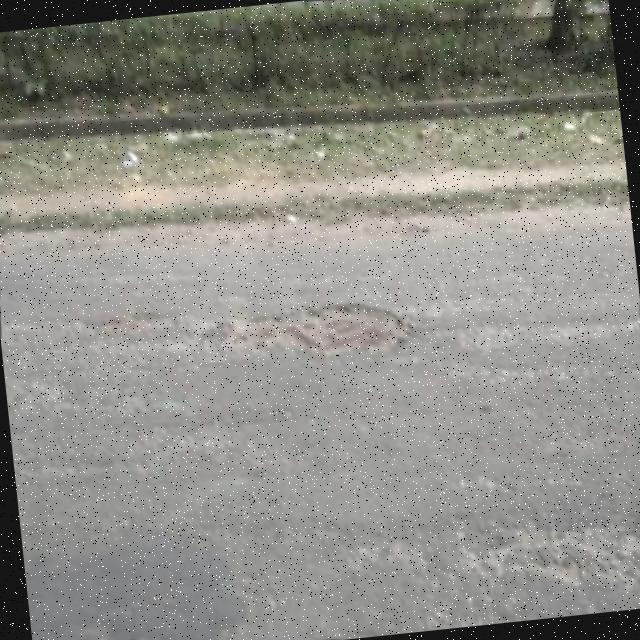Pothole: (195, 303, 414, 365)
